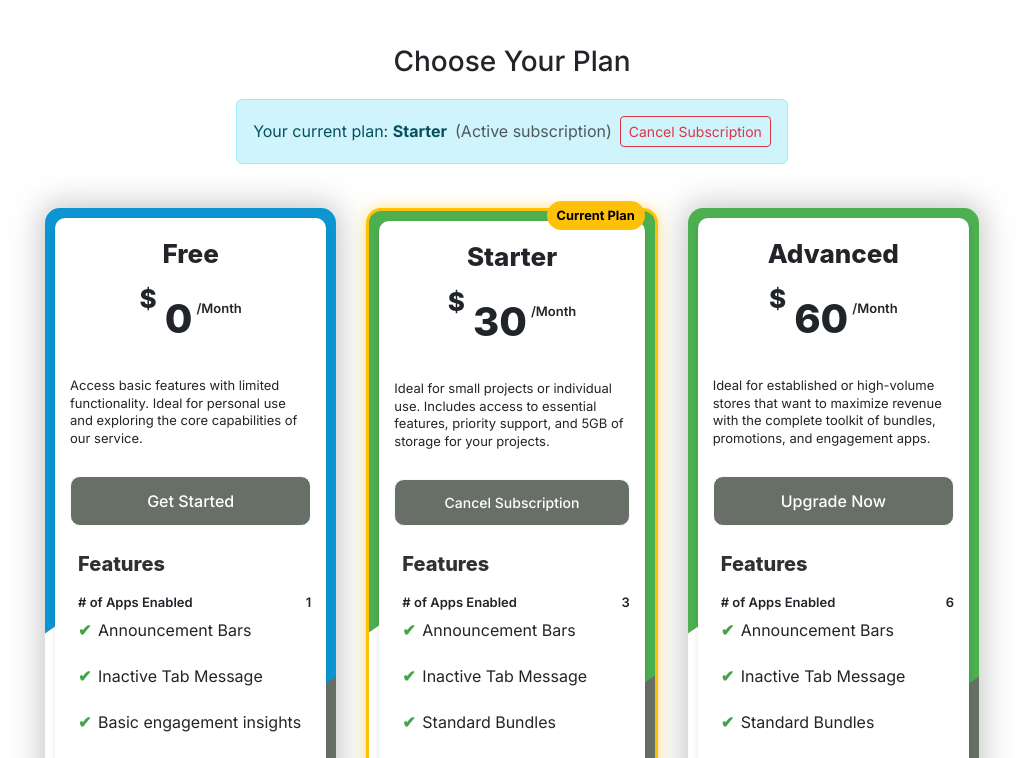
Scenario: Plan page - billing/subscription flow › downgrading from a paid plan to Free asks for confirmation and shows the result modal
Check: the text "Your current plan: Starter(Active subscription)" is shown, box top-left (253, 119), bottom-right (612, 143)
Click the button "Get Started" at (191, 501), box top-left (70, 476), bottom-right (311, 526)
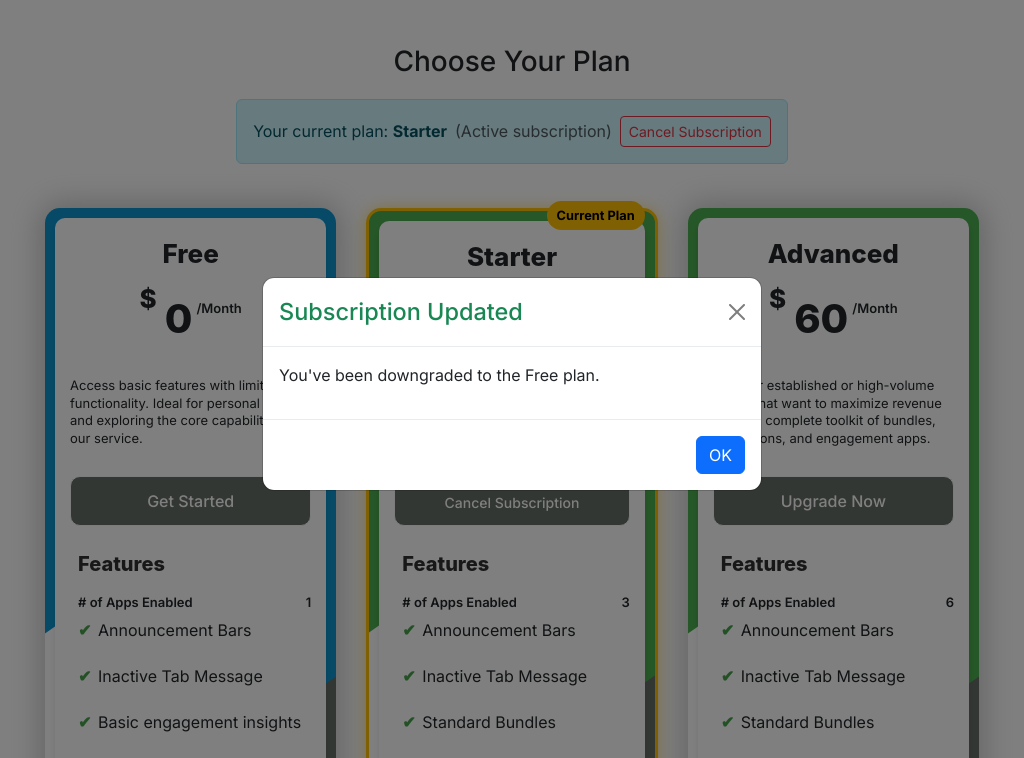
Check: the text "Subscription Updated" is shown, box top-left (279, 294), bottom-right (523, 330)
Check: the text "You've been downgraded to the Free plan." is shown, box top-left (279, 365), bottom-right (600, 385)
